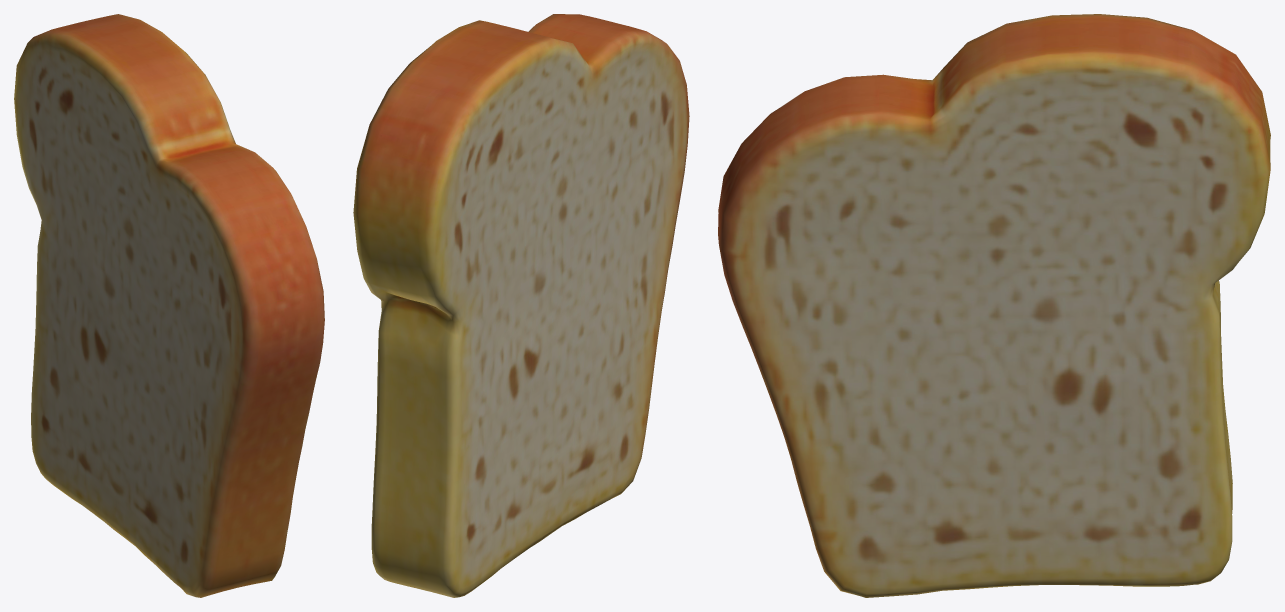
File: bread.fbx
The picture shows the model from 3 angles, left to right: view 1: azimuth 30°, elevation 25°; view 2: azimuth 150°, elevation 25°; view 3: azimuth 270°, elevation 25°; orthographic projection. The views are drawn at different scales.
Visible parts, largest first — view 1: mesh; view 2: mesh; view 3: mesh.
Boxes of the visible parts, x1=… form: mesh: x1=14, y1=14, x2=324, y2=597; mesh: x1=353, y1=14, x2=689, y2=597; mesh: x1=718, y1=14, x2=1270, y2=597.
Bounding box in the file's own units: 18.14 × 99.91 × 91.92.
